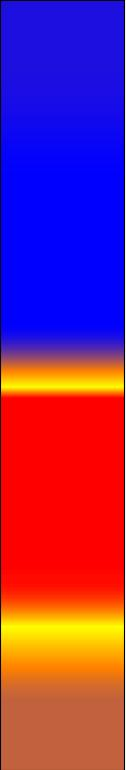Thermal Runaway: (8, 395, 121, 615), (5, 621, 121, 669), (6, 376, 115, 388)
critical: (8, 676, 119, 766), (6, 359, 116, 371)
safe: (4, 8, 121, 354)
